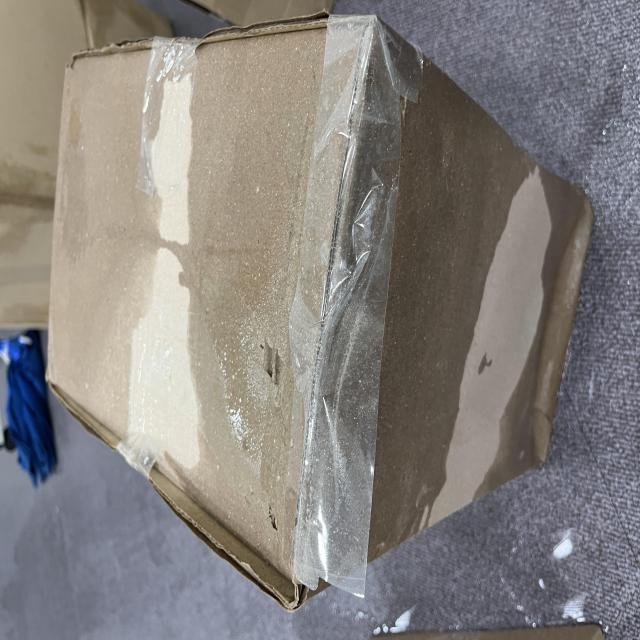wet: (51, 53, 460, 640)
